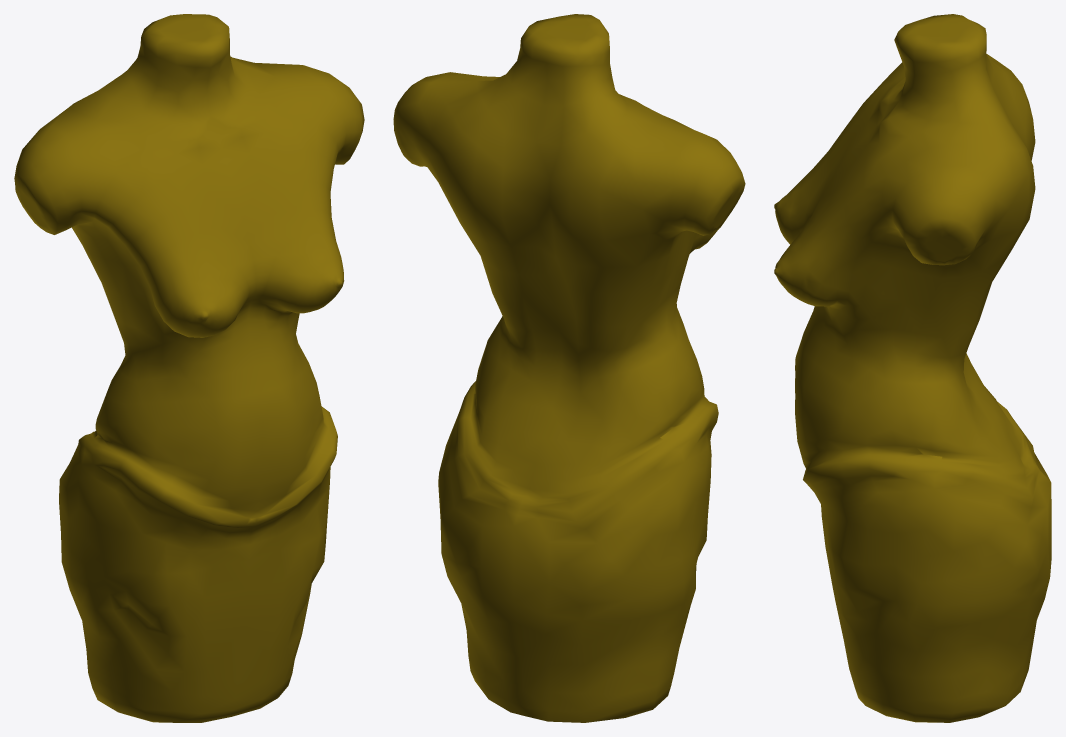
Rendered from WomanSculpture_M.FBX.
The picture shows the model from 3 angles, left to right: view 1: azimuth 30°, elevation 25°; view 2: azimuth 150°, elevation 25°; view 3: azimuth 270°, elevation 25°; orthographic projection.
Parts seen in each view (by area): view 1: Venus_rv1_1; view 2: Venus_rv1_1; view 3: Venus_rv1_1.
Part boxes in pixels (box(x1,y1,x2,y2)): Venus_rv1_1: box(14, 14, 364, 722); Venus_rv1_1: box(393, 14, 745, 722); Venus_rv1_1: box(774, 14, 1051, 722).
Bounding box in the file's own units: 73.82 × 53.42 × 139.
